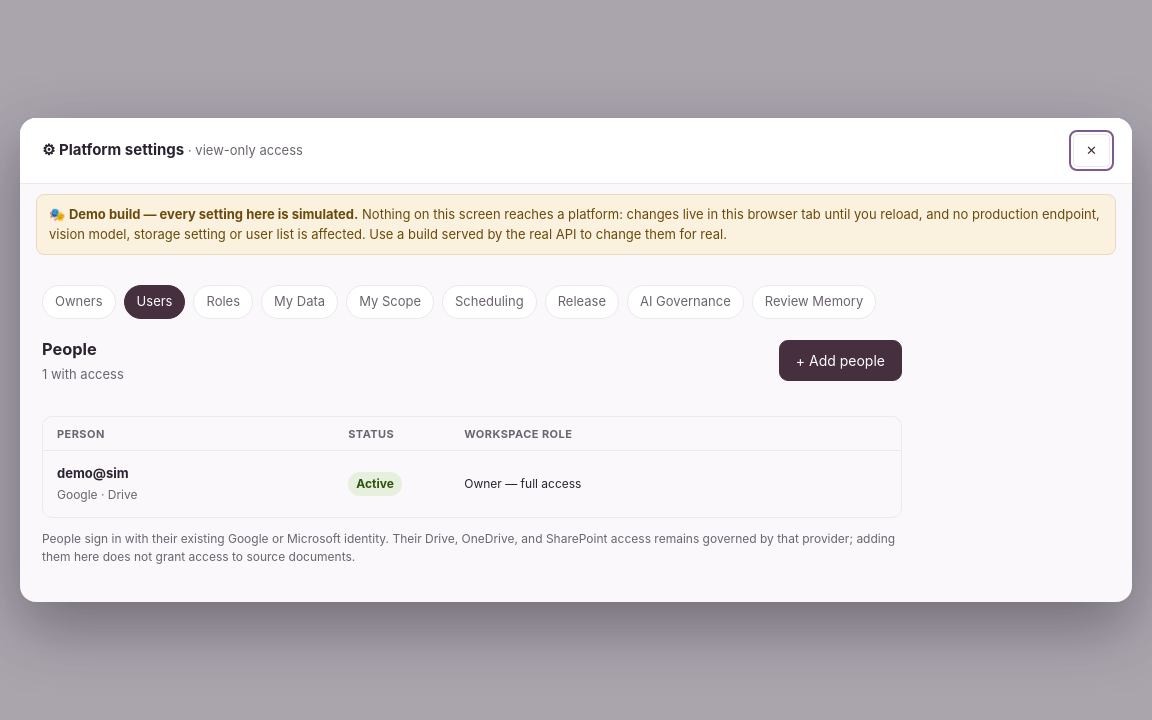
Test case: the Review Memory tab › mounts the review-memory panel, and it reports the feature flag rather than status alone
This screenshot has width=1152, height=720.
What coordinates should you click on to do the following:
click the tab "Review Memory"
I would click on:
 (814, 302)
Its box is [752,286,876,319].
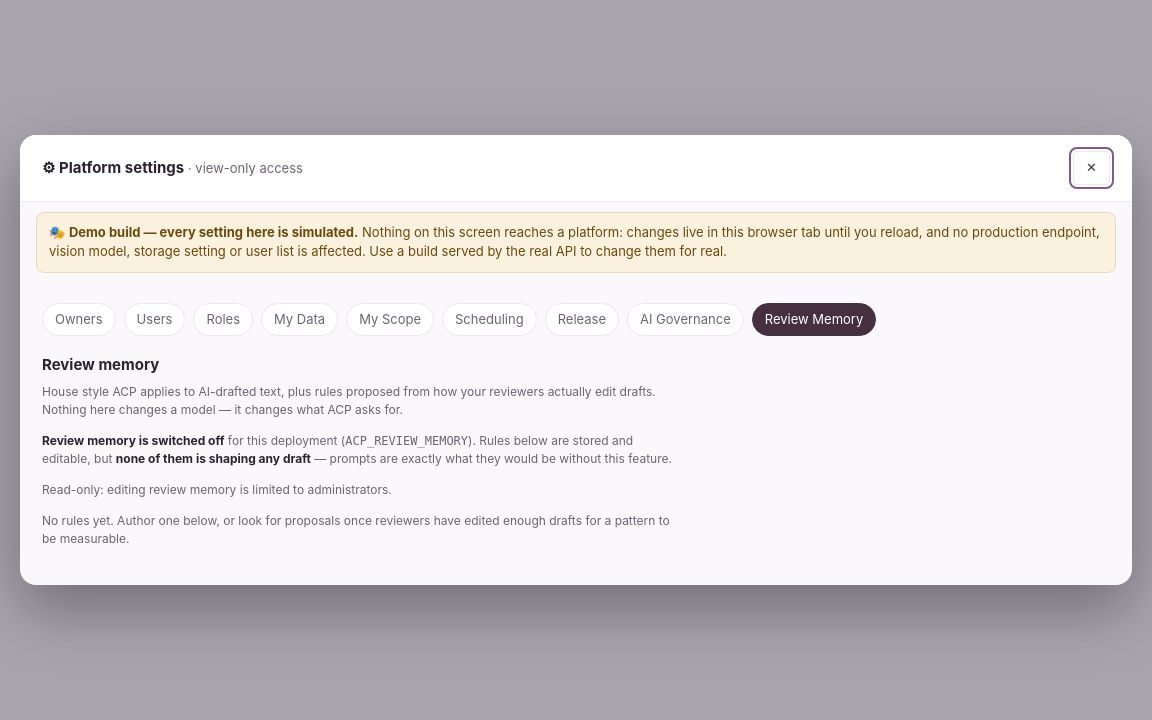
Check: the element with class "rm-panel" is shown, box [42,354,682,549]
Check: the text "Review memory is switched off" is shown, box [42,433,224,448]
Check: the element with class "rm-disabled" is shown, box [42,432,682,469]
